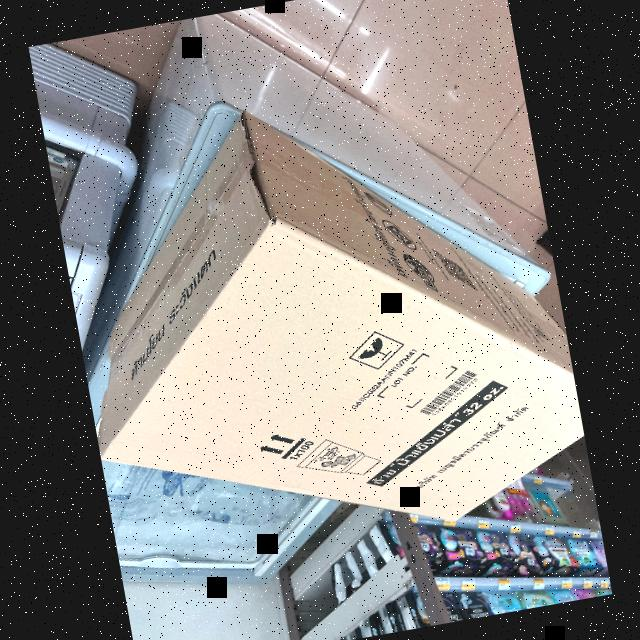cardboard_box: (103, 109, 584, 535)
